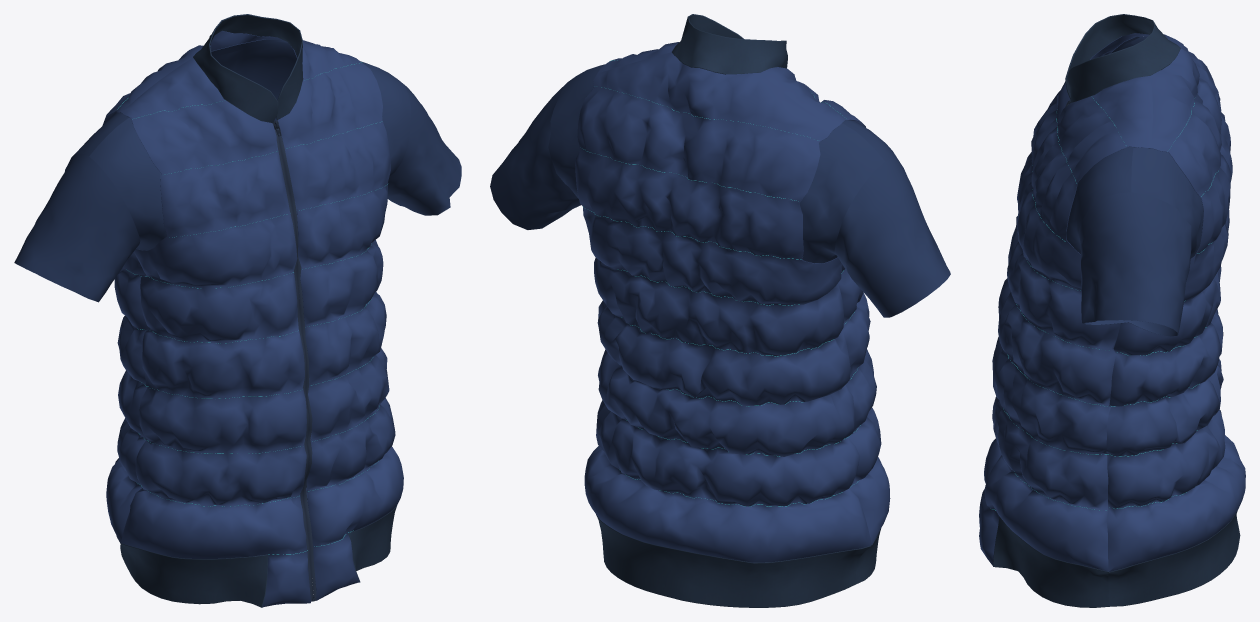
Rendered from 1_fbx_thick.fbx.
The picture shows the model from 3 angles, left to right: view 1: azimuth 30°, elevation 25°; view 2: azimuth 150°, elevation 25°; view 3: azimuth 270°, elevation 25°; orthographic projection. The views are drawn at different scales.
Parts seen in each view (by area): view 1: 1_fbx_thick; view 2: 1_fbx_thick; view 3: 1_fbx_thick.
Part boxes in pixels (x1,y1,x2,y2): 1_fbx_thick: (14, 14, 461, 607); 1_fbx_thick: (490, 14, 950, 607); 1_fbx_thick: (979, 14, 1245, 607).
Size of the model in its own units: 66.26 by 76.38 by 35.17.
